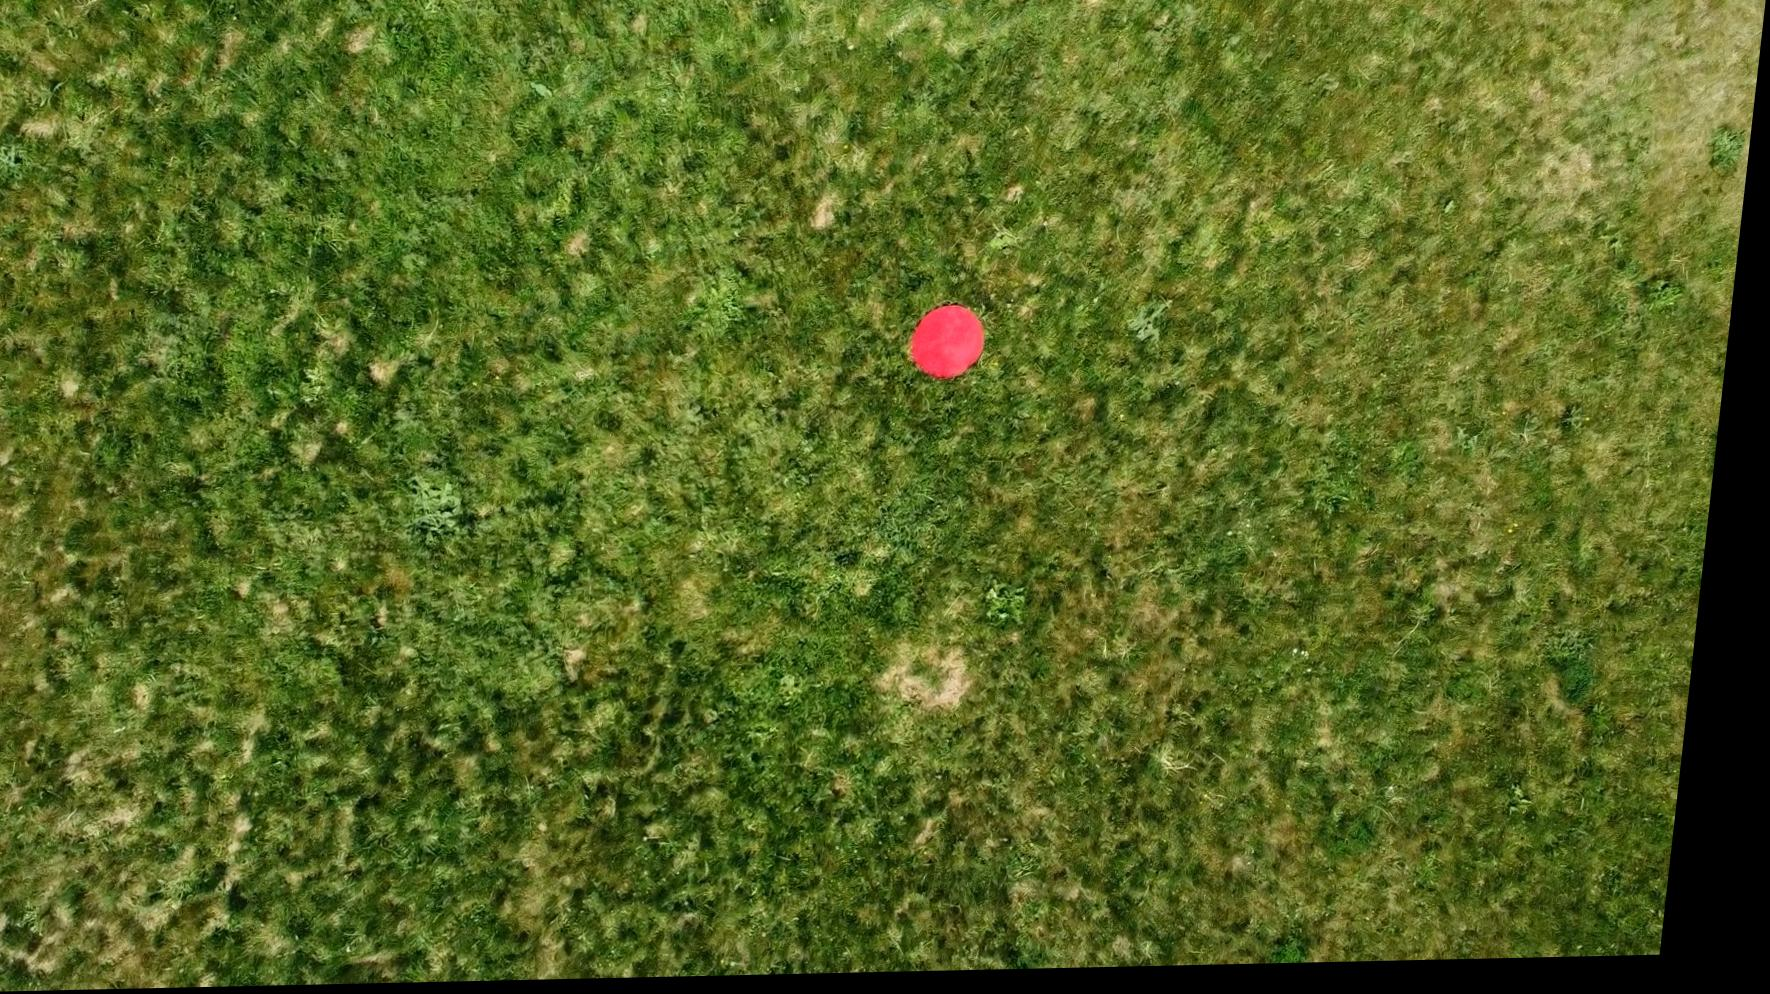Red: (914, 306, 998, 385)
